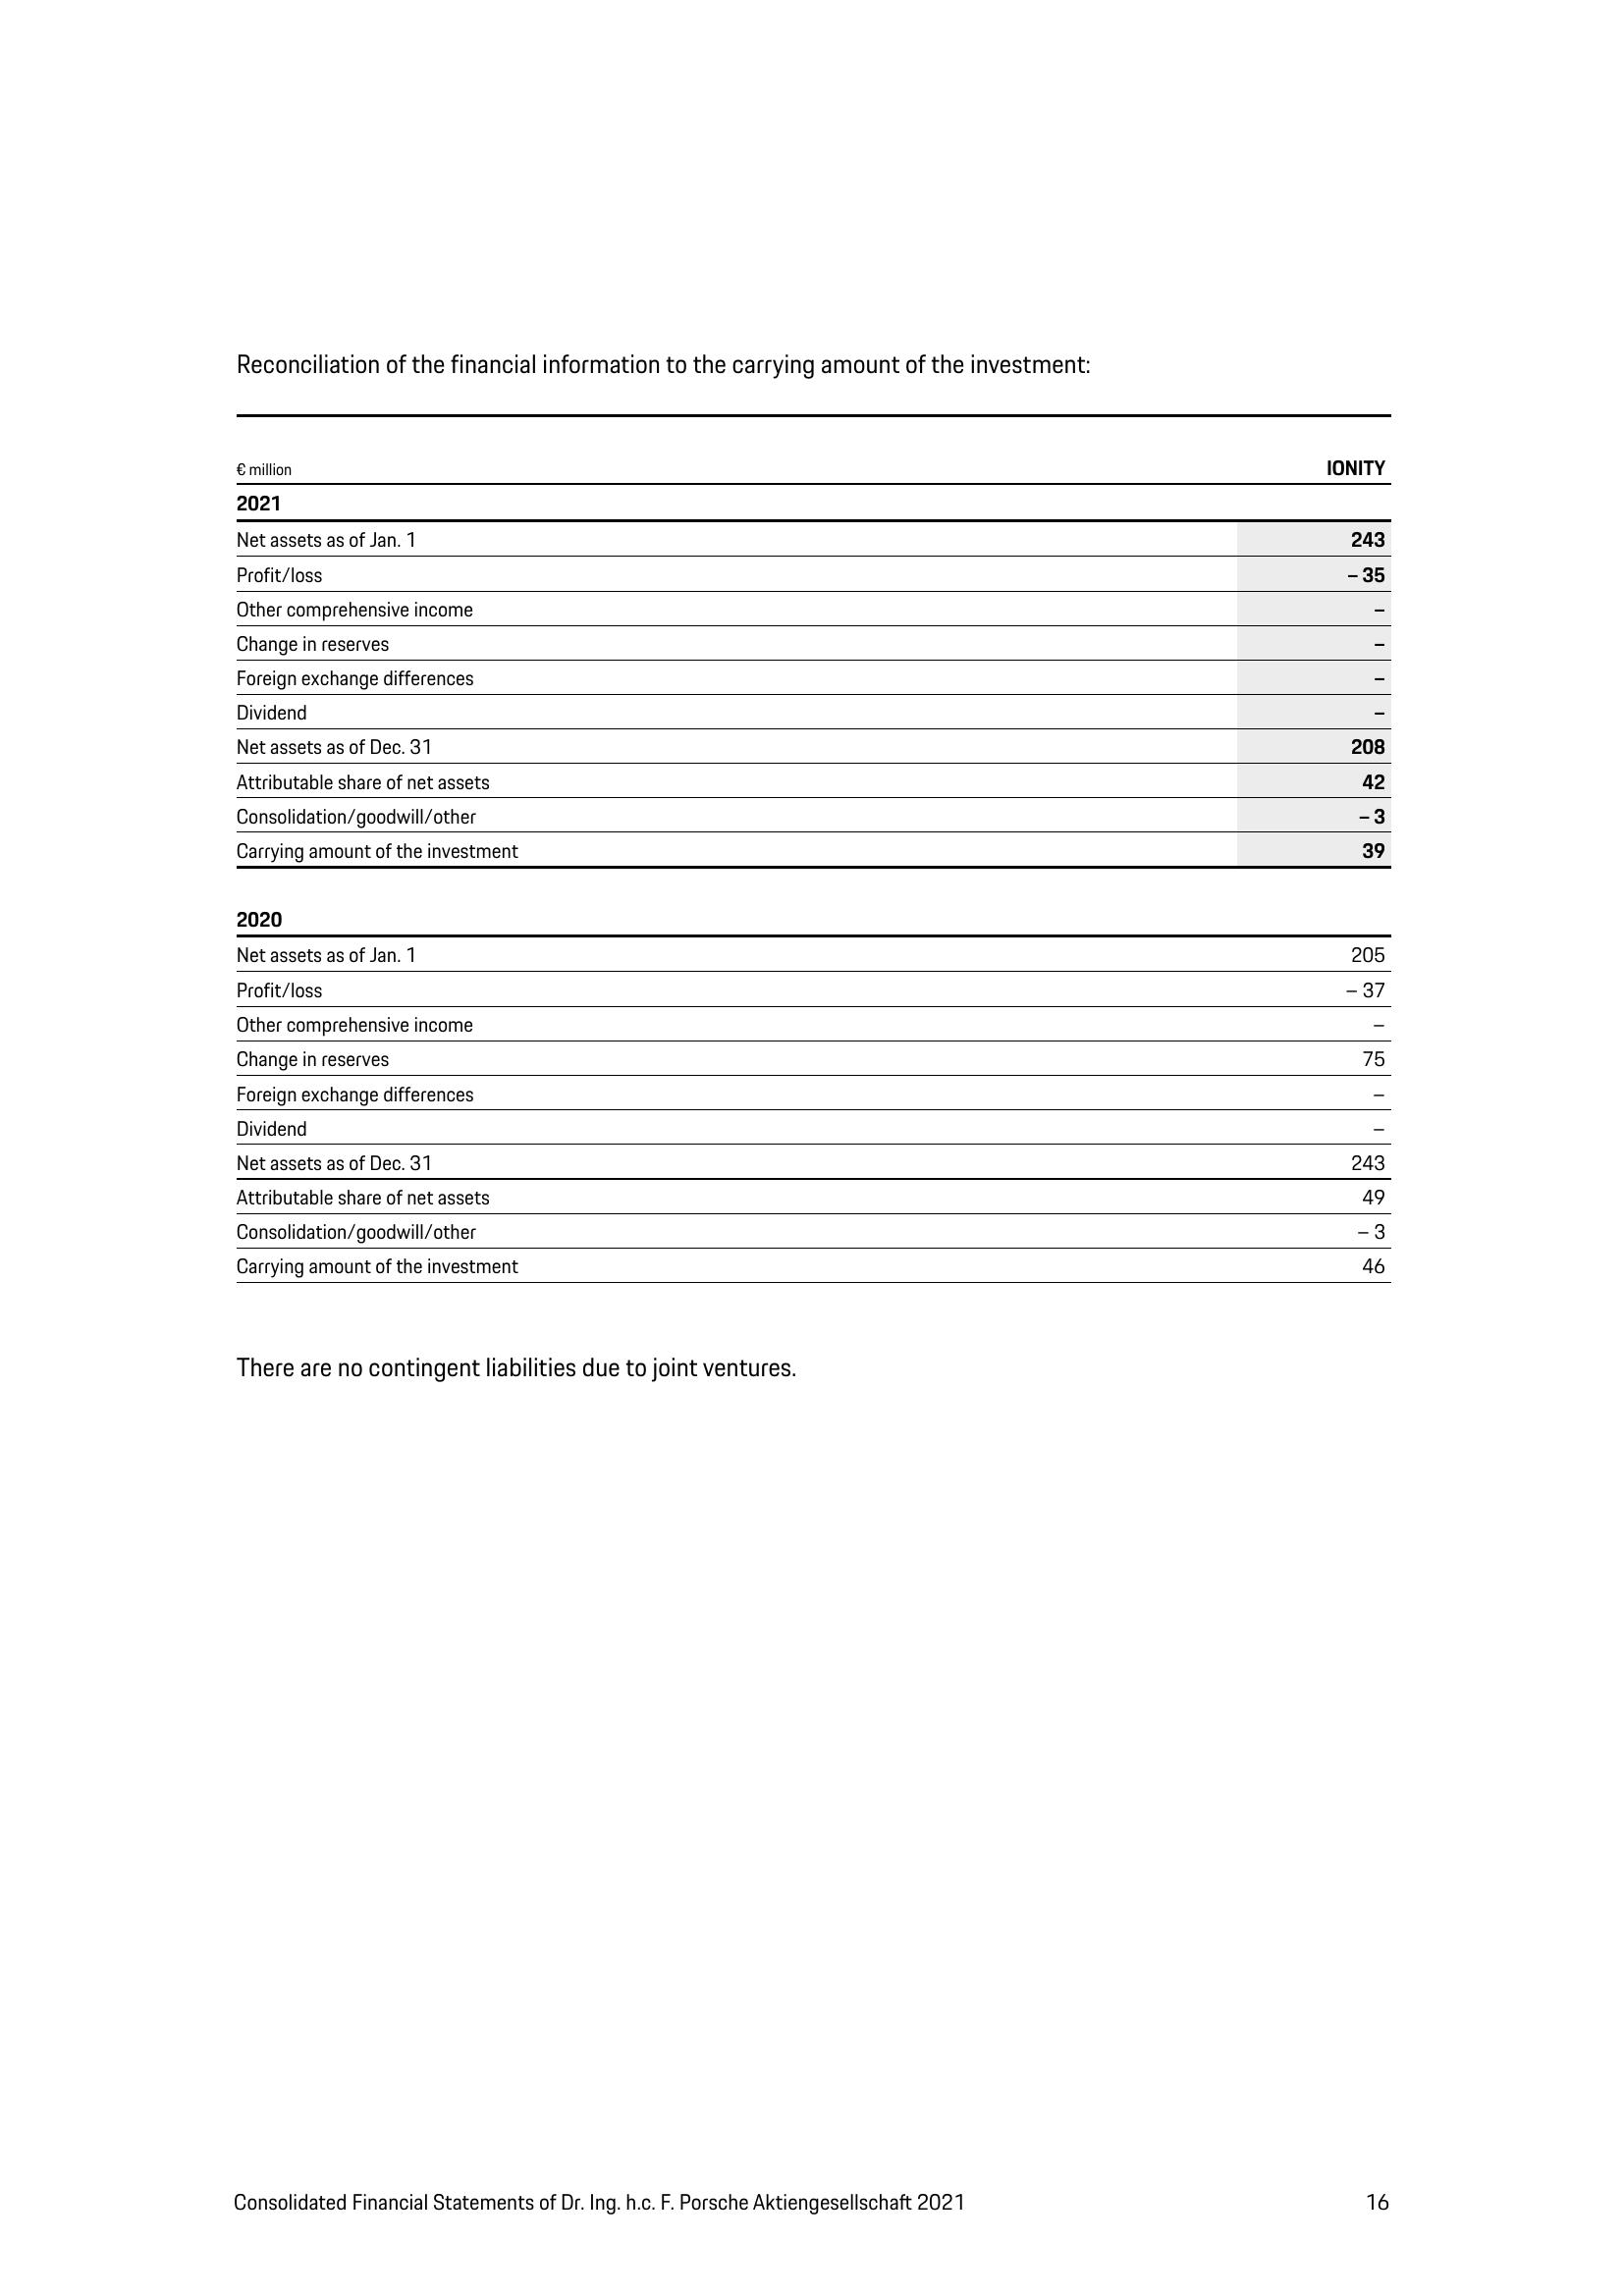Footer: (0, 2134, 1624, 2296)
Header: (0, 0, 1624, 214)
Table: (213, 408, 1403, 1330)
